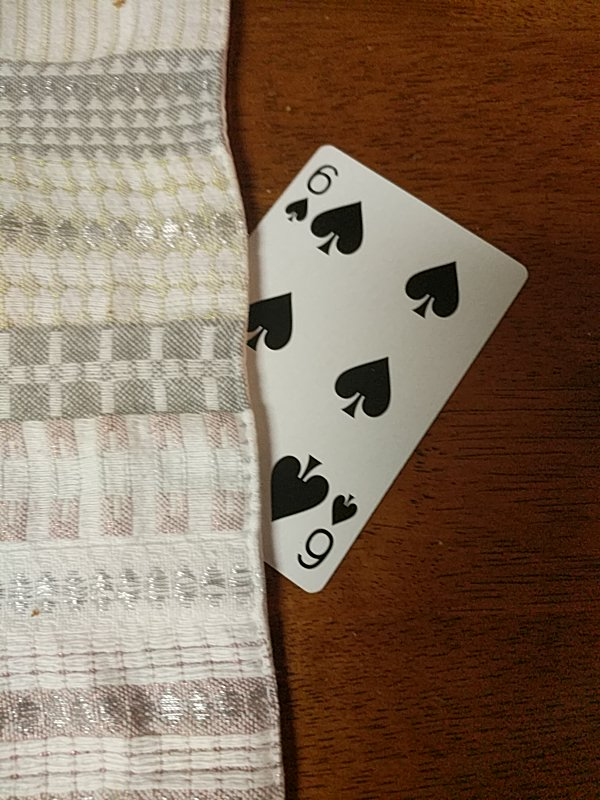Spades: (245, 146, 529, 596)
